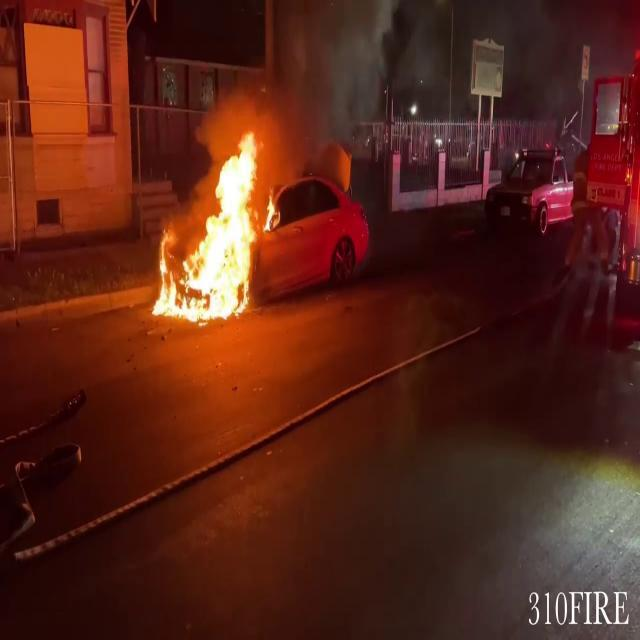Fire: (150, 122, 278, 325)
Smoke: (238, 0, 404, 152)
